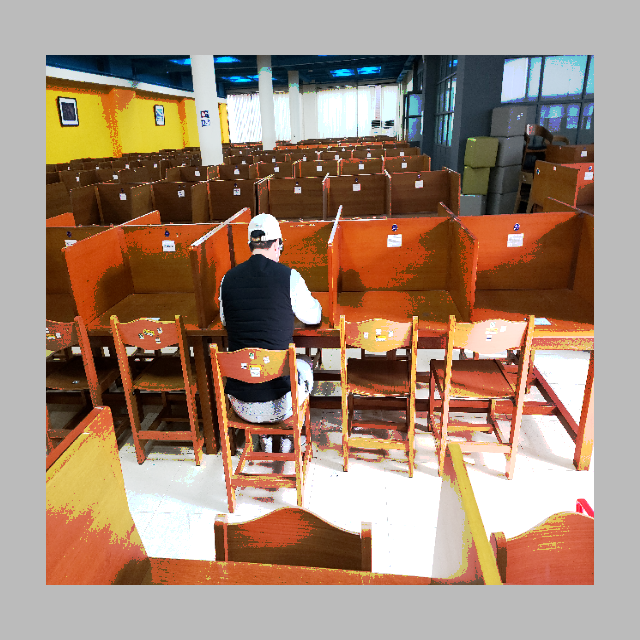empty: (334, 210, 460, 387), (467, 209, 587, 384)
full: (206, 204, 335, 422)
